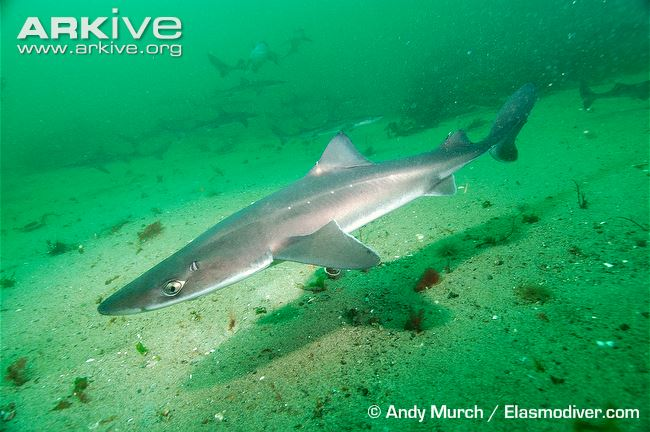shark: (66, 82, 556, 327)
